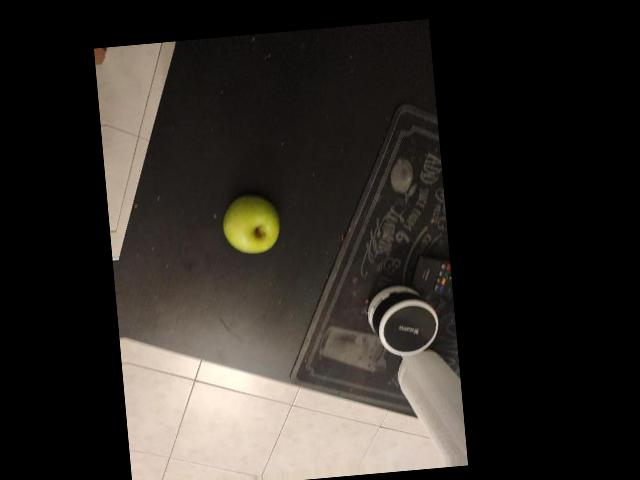apple: (149, 302, 250, 382)
